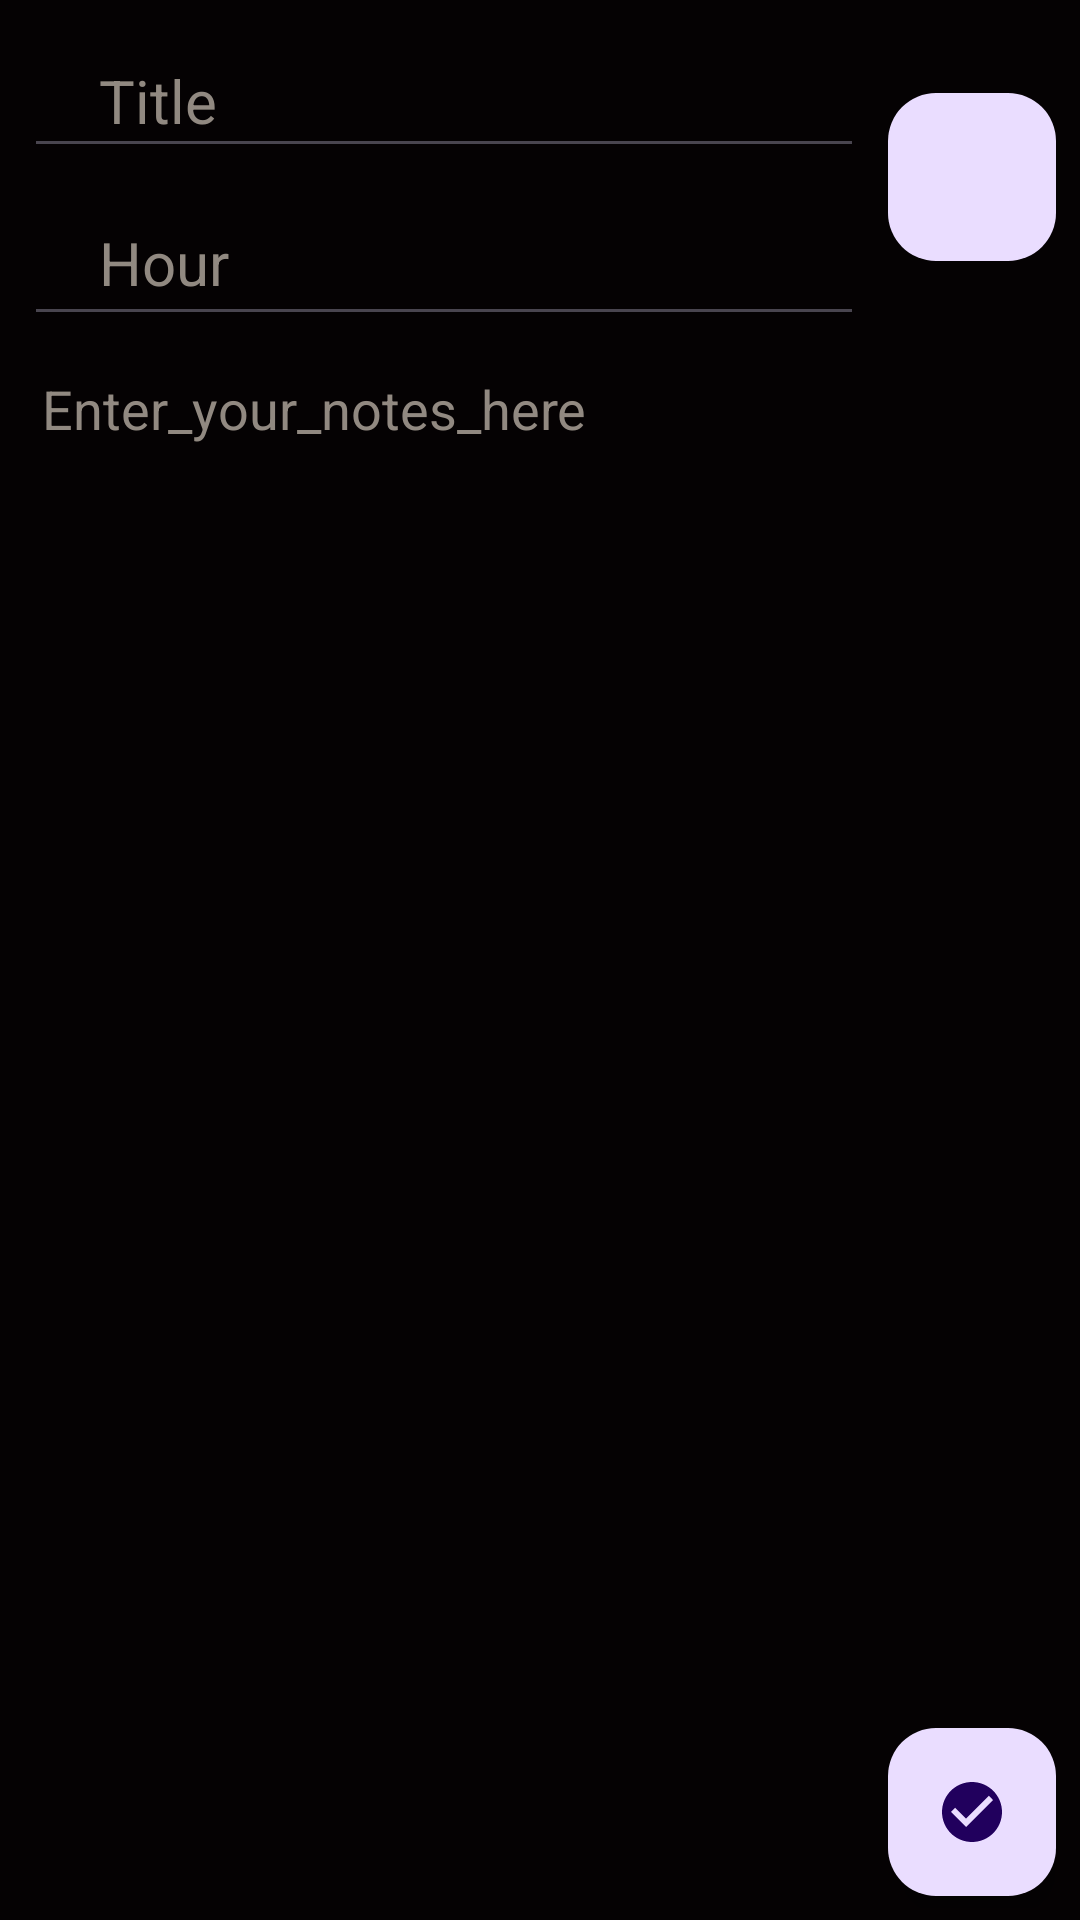

Where to tap for icons on this 1080x1920 app screen, as (x=x, y=y):
check circle: (x=972, y=1812)
